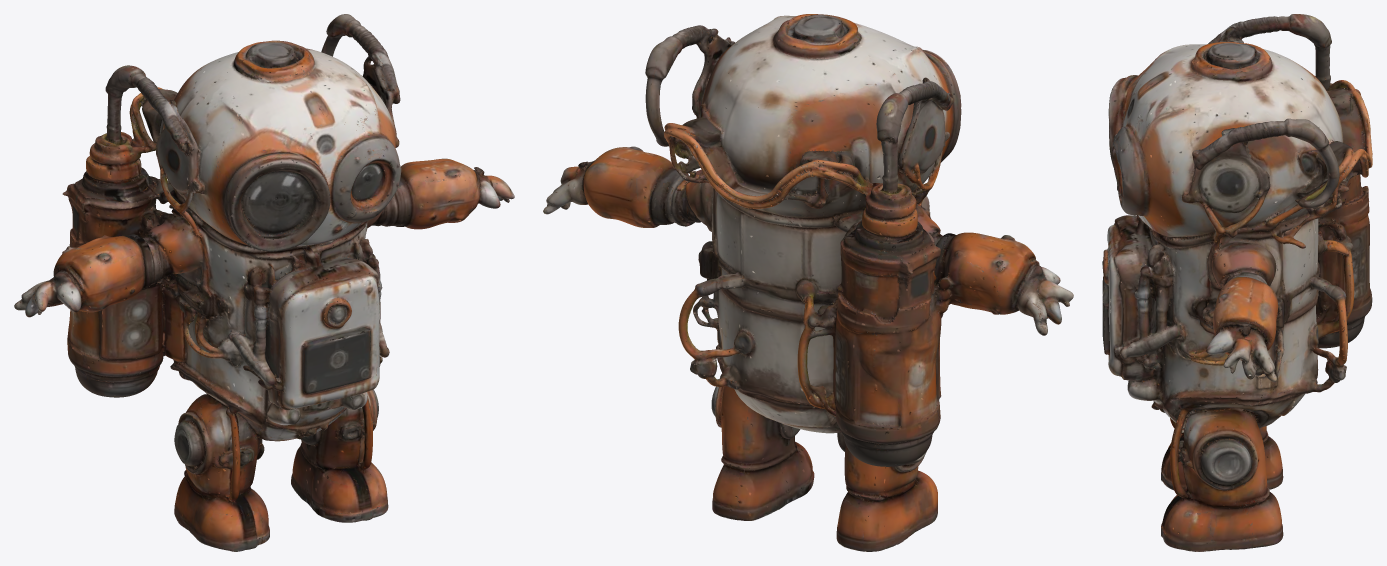
File: character-transformed.glb
3 views of the same model, side by side, from view 1: azimuth 30°, elevation 25°; view 2: azimuth 150°, elevation 25°; view 3: azimuth 270°, elevation 25° (orthographic). The views are drawn at different scales.
Bounding box in the file's own units: 2 × 1.85 × 0.9875.
Materials: 1 (1 with a texture image).
